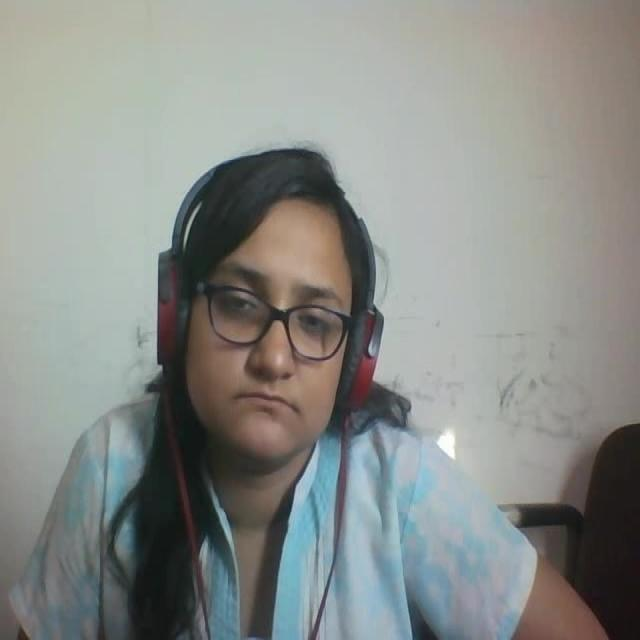Bored: (137, 129, 388, 481)
